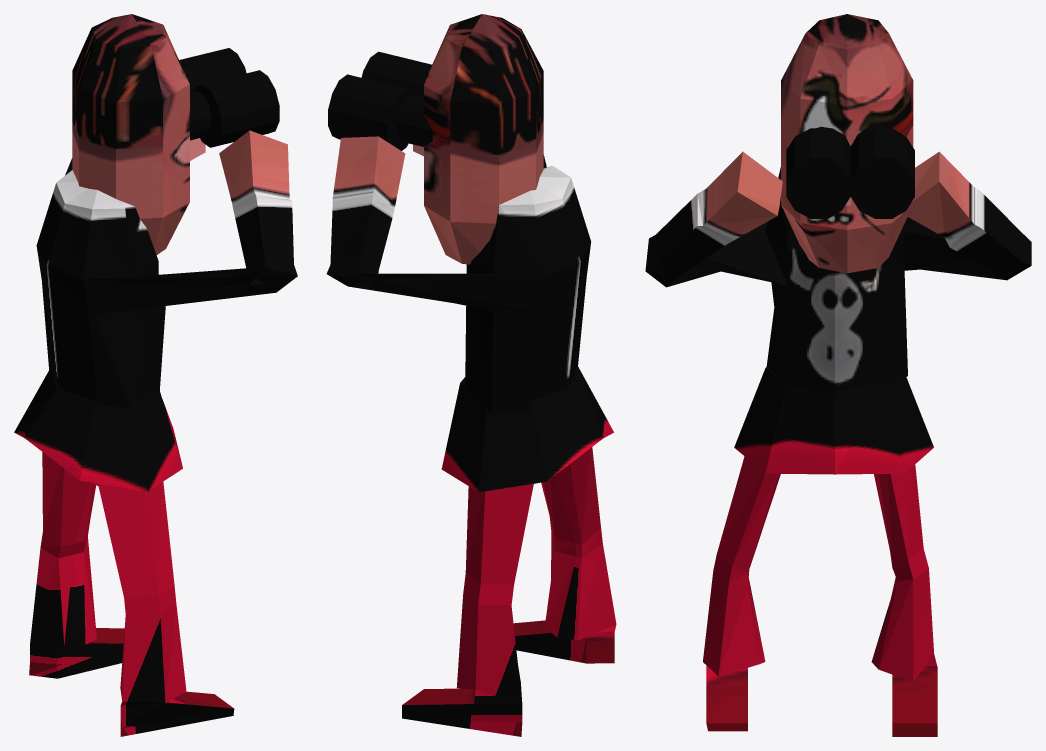
File: MarBin.glb
3 renders of one model, left to right at view 1: azimuth 30°, elevation 25°; view 2: azimuth 150°, elevation 25°; view 3: azimuth 270°, elevation 25°, orthographic. The views are drawn at different scales.
Visible parts, largest first — view 1: MarBin; view 2: MarBin; view 3: MarBin.
Boxes of the visible parts, box(x1,y1,x2,y2) form: MarBin: box(14, 14, 297, 736); MarBin: box(326, 14, 616, 736); MarBin: box(645, 14, 1031, 736).
Bounding box in the file's own units: 29.83 × 82.15 × 40.8.
1 material, 1 textured.
